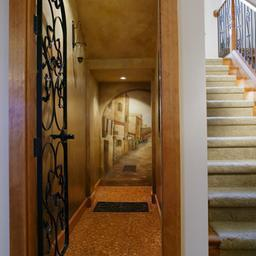Escaleras: (188, 10, 255, 251)
Puerta: (34, 8, 68, 252)
